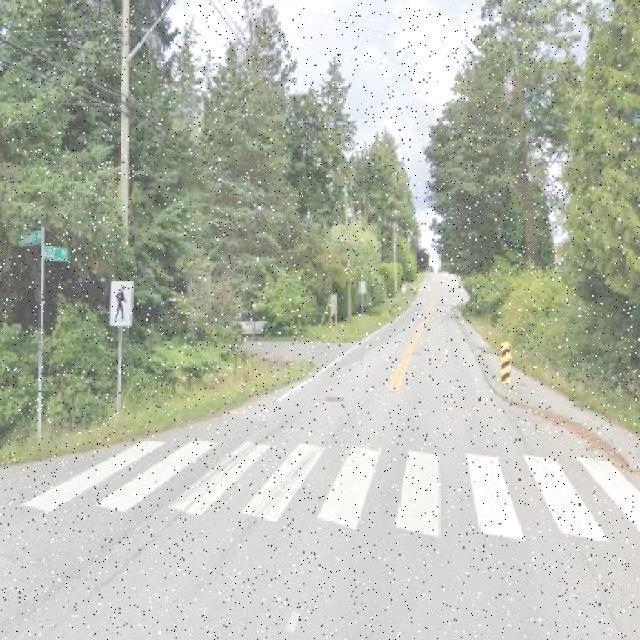crosswalk: (23, 440, 639, 534)
